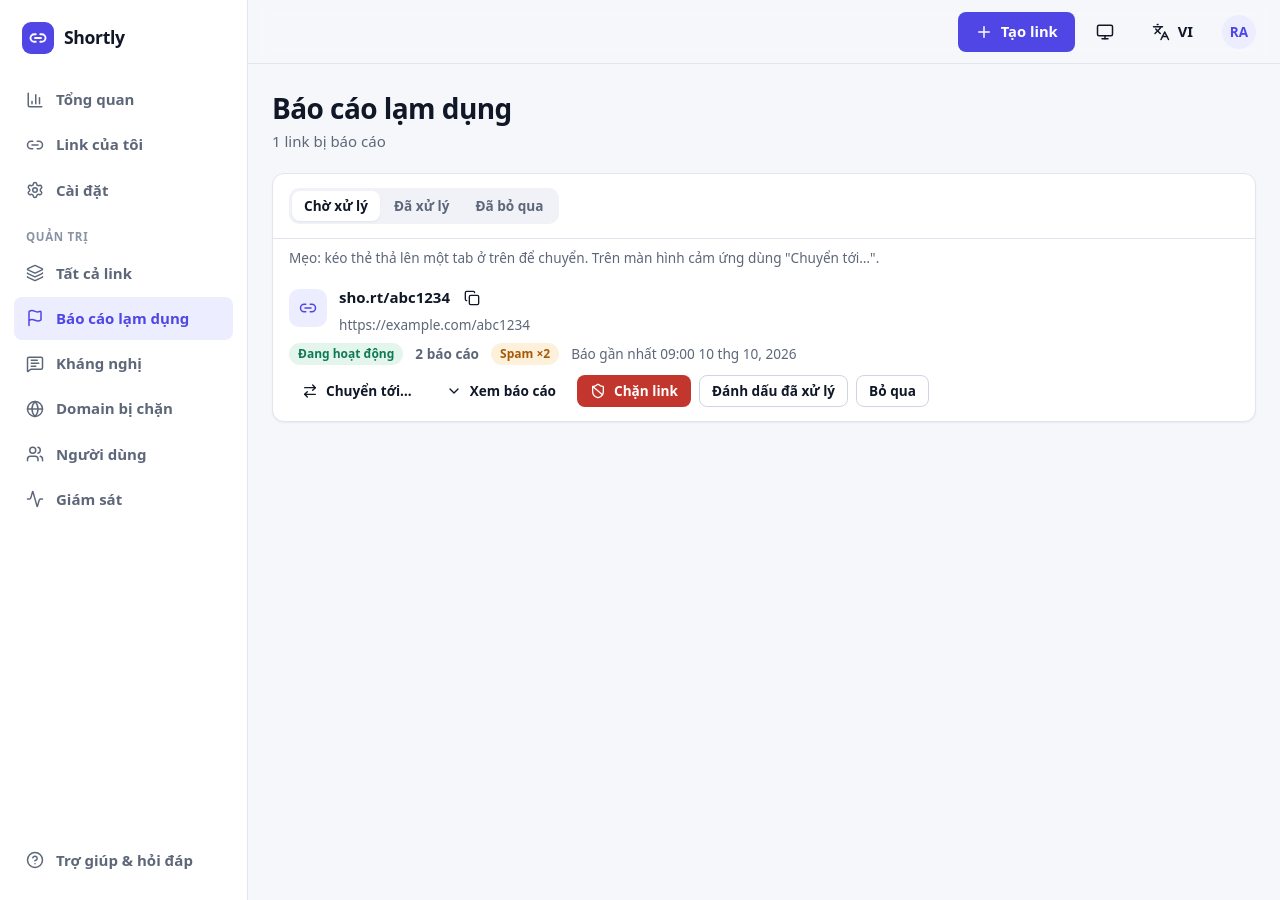
Test case: quản trị: chuyển báo cáo giữa các tab › server báo 0 báo cáo được chuyển (người khác vừa đổi): báo lỗi nhẹ và tải lại danh sách
Expected: the text "sho.rt/abc1234" is shown, top-left (339, 286), bottom-right (450, 310)
Click the button with aria-label "Chuyển tới… abc1234" at (357, 391), box top-left (289, 375), bottom-right (425, 407)
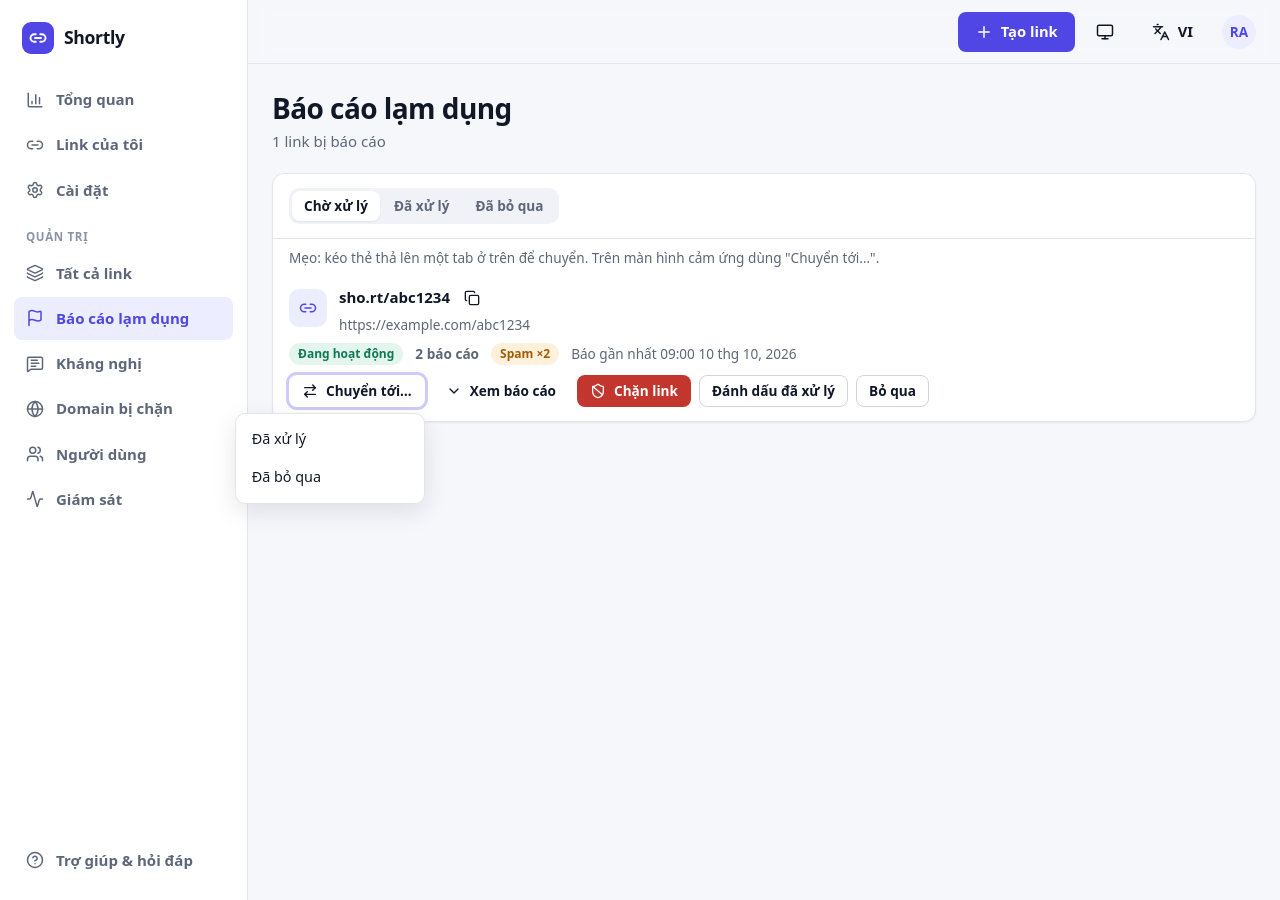
Click the menu item "Đã bỏ qua" at (330, 477), box top-left (242, 458), bottom-right (418, 497)
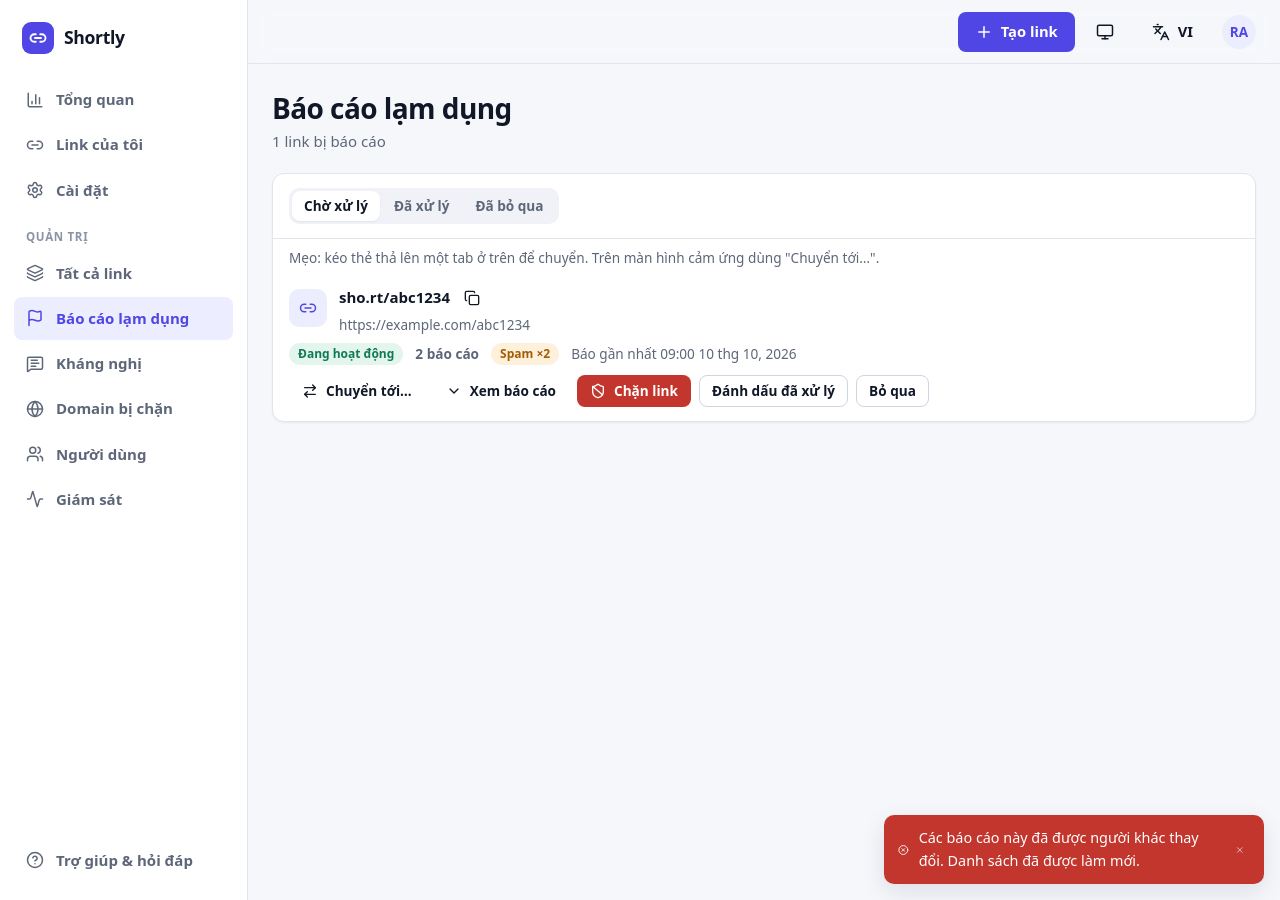
Result: the text "đã được người khác thay đổi" is shown at top-left (919, 828), bottom-right (1199, 870)
